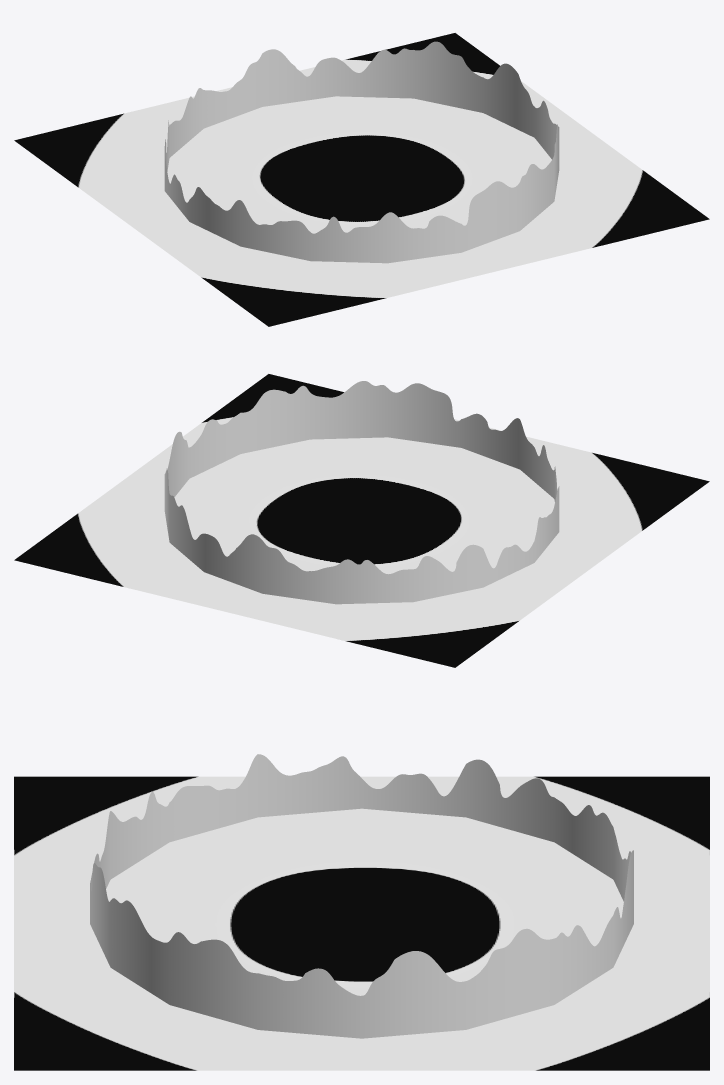
The model's file is TeleportEffect.fbx.
The picture shows the model from 3 angles, top to bottom: view 1: azimuth 30°, elevation 25°; view 2: azimuth 150°, elevation 25°; view 3: azimuth 270°, elevation 25°; orthographic projection. The views are drawn at different scales.
Visible parts, largest first — view 1: Plane, Cylinder; view 2: Plane, Cylinder; view 3: Plane, Cylinder.
Part boxes in pixels (box(x1,y1,x2,y2)): Plane: box(14, 33, 709, 326); Cylinder: box(164, 41, 559, 263); Plane: box(14, 374, 709, 667); Cylinder: box(164, 381, 559, 604); Plane: box(14, 776, 709, 1070); Cylinder: box(90, 754, 633, 1038).
Bounding box in the file's own units: 2 × 0.3629 × 2.
